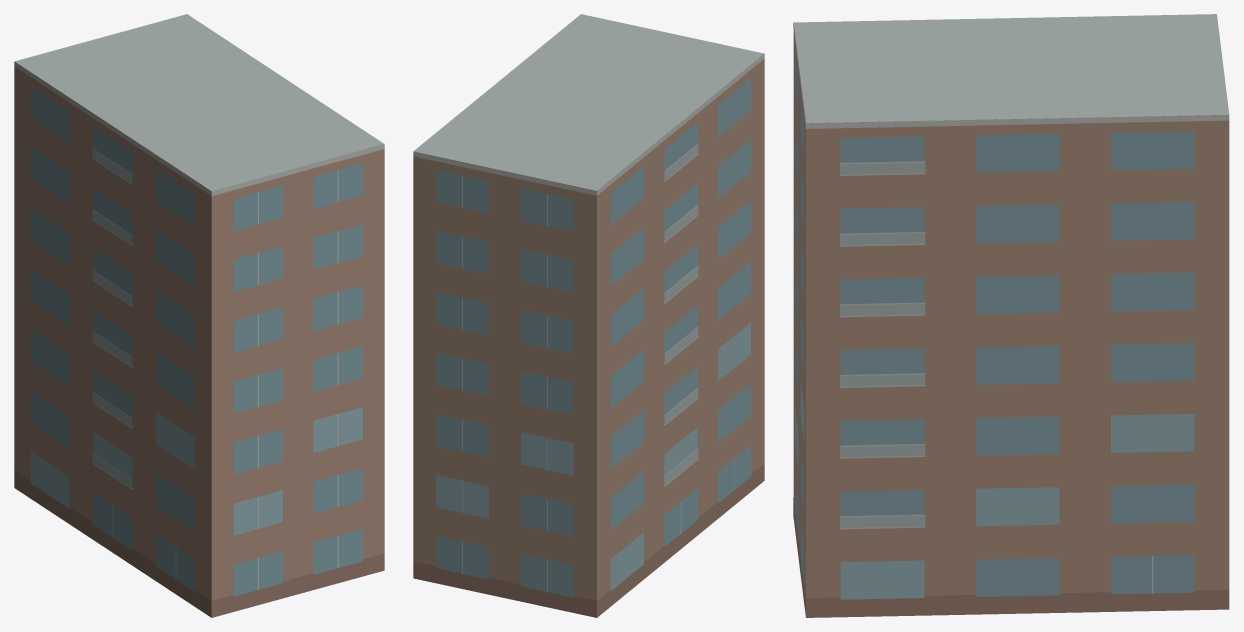
The model's file is survey-upis-32915546.glb.
The picture shows the model from 3 angles, left to right: view 1: azimuth 30°, elevation 25°; view 2: azimuth 150°, elevation 25°; view 3: azimuth 270°, elevation 25°; orthographic projection. The views are drawn at different scales.
Parts seen in each view (by area): view 1: survey-upis-32915546.tmp; view 2: survey-upis-32915546.tmp; view 3: survey-upis-32915546.tmp.
Part boxes in pixels (x1,y1,x2,y2): survey-upis-32915546.tmp: (14, 14, 384, 617); survey-upis-32915546.tmp: (413, 14, 764, 617); survey-upis-32915546.tmp: (793, 14, 1229, 617).
Size of the model in its own units: 10 by 21.1 by 16.86.
